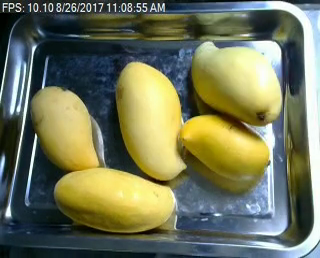Mango: (112, 57, 191, 182), (54, 167, 178, 237), (186, 39, 282, 127), (174, 109, 276, 183), (23, 86, 104, 171)
